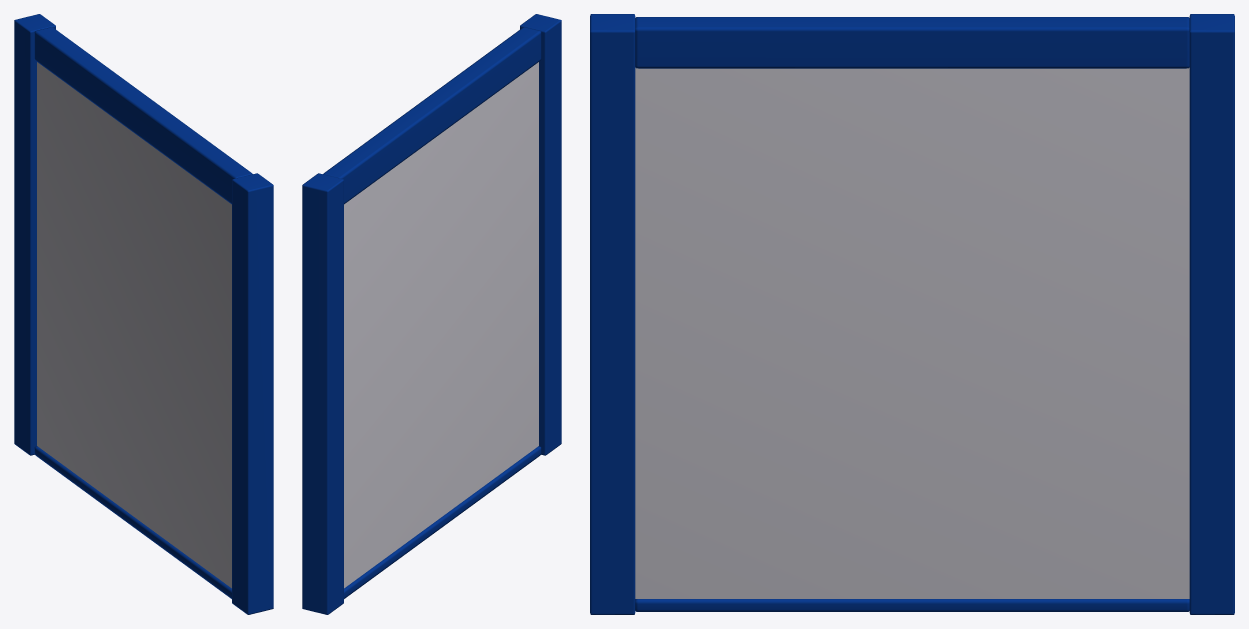
The model's file is WhiteWall.fbx.
3 renders of one model, left to right at view 1: azimuth 30°, elevation 25°; view 2: azimuth 150°, elevation 25°; view 3: azimuth 270°, elevation 25°, orthographic. The views are drawn at different scales.
Parts seen in each view (by area): view 1: HP; view 2: HP; view 3: HP.
Part boxes in pixels (left/top/right/bottom): HP: left=14, top=14, right=273, bottom=614; HP: left=302, top=14, right=561, bottom=614; HP: left=590, top=14, right=1234, bottom=614.
Bounding box in the file's own units: 12.86 × 200 × 200.
